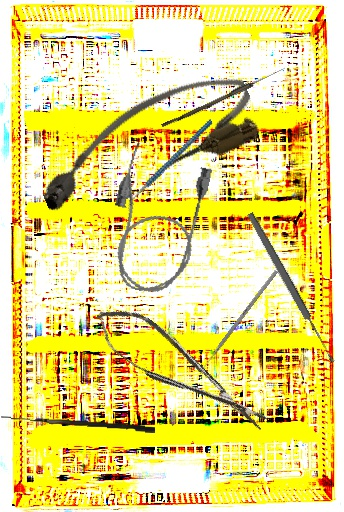Cannula: (24, 61, 267, 226), (97, 140, 215, 301)
Chopper: (107, 118, 233, 214)
Hook Surgical: (0, 415, 156, 434)
Micro Scissor: (86, 293, 275, 448)
Pusher: (197, 269, 279, 375)
Surgical Spoon: (245, 211, 337, 365), (161, 66, 284, 130)
